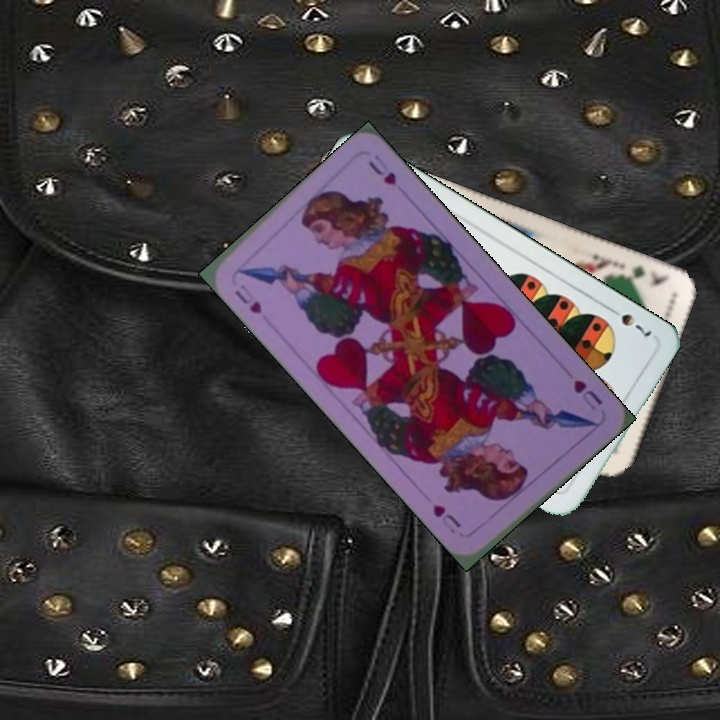GK: (613, 261, 671, 290)
HU: (231, 279, 265, 317), (569, 376, 605, 409)
S7: (603, 302, 655, 340)
